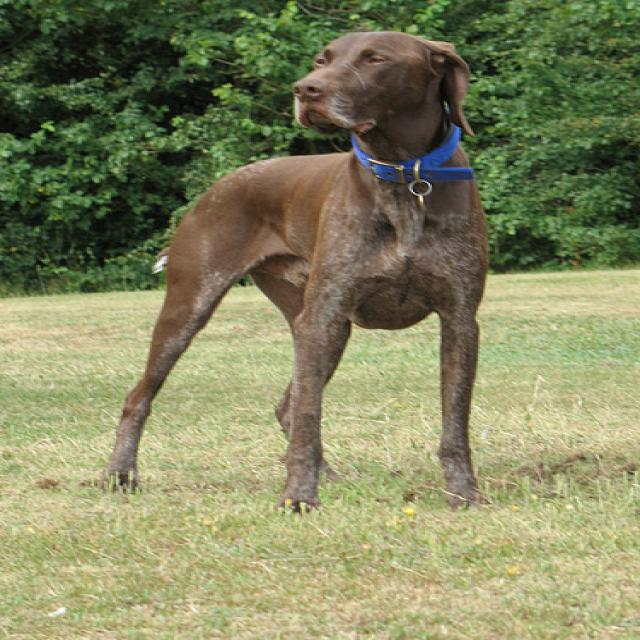dog-german_shorthaired: (97, 28, 505, 509)
